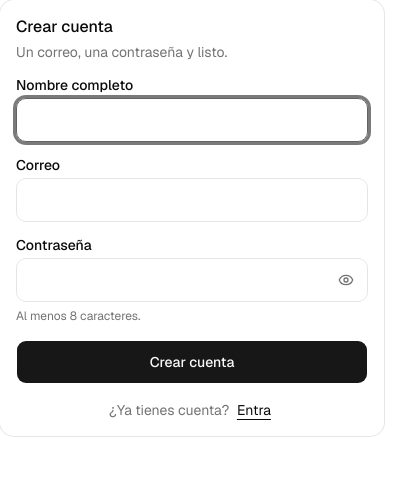
Test case: FormularioRegistro › correo ya existente marca solo el correo
Type "Ana" into the field labelled "Nombre completo".
click(192, 120); type("Ana")  # box [16,98,368,142]
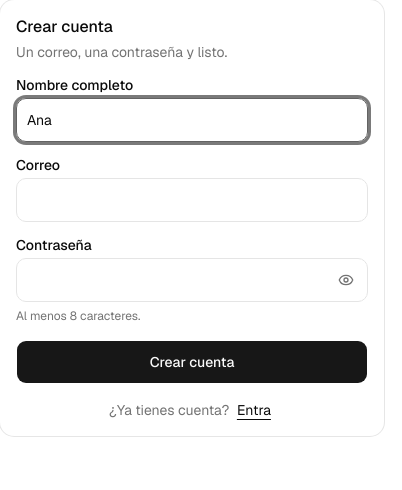
Type "a@b.co" into the field labelled "Correo".
click(192, 200); type("a@b.co")  # box [16,178,368,222]
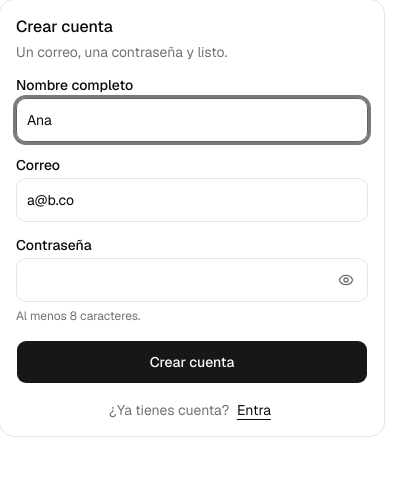
Type "secreta123" into the password field labelled "Contraseña".
click(192, 280); type("secreta123")  # box [16,258,368,302]
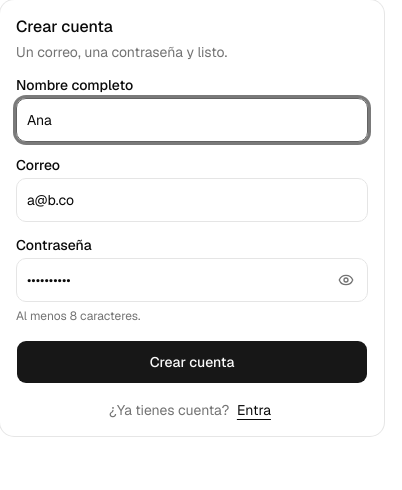
Click the button "Crear cuenta".
click(192, 362)  # box [16,340,368,384]
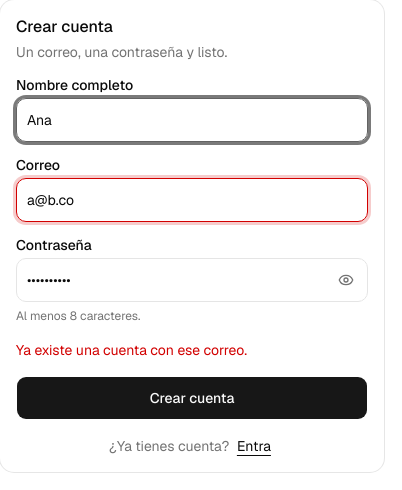
Expected: the message reads "Ya existe una cuenta con ese correo.", [16,341,247,359]
